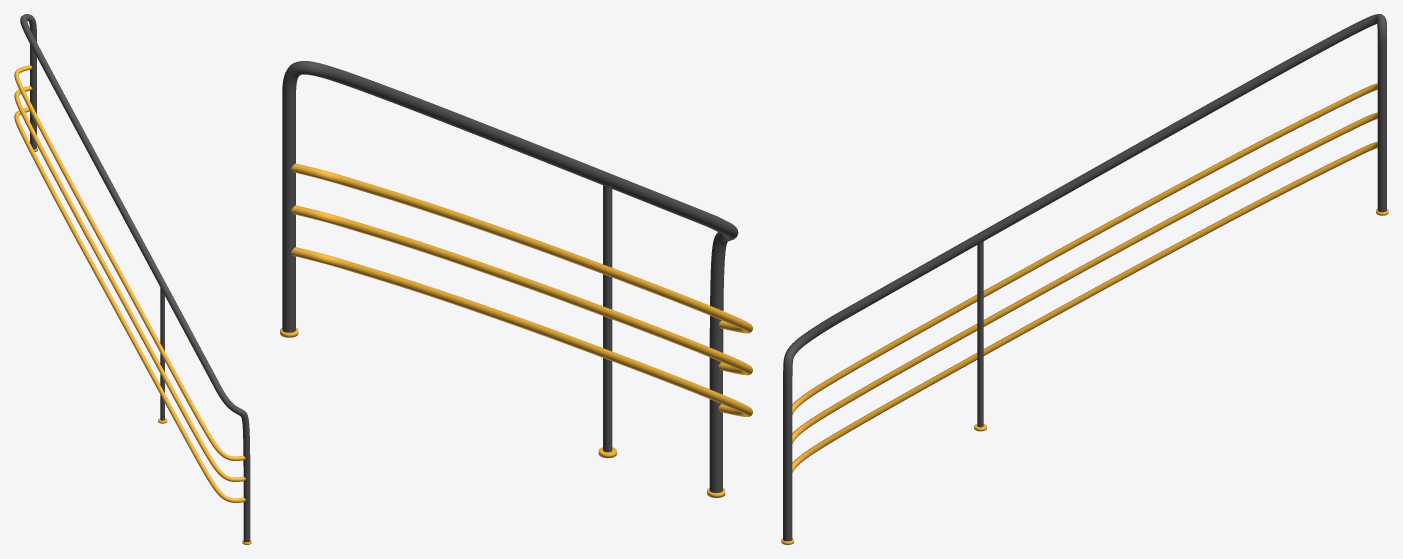
The model's file is RinghieraScale.fbx.
The picture shows the model from 3 angles, left to right: view 1: azimuth 30°, elevation 25°; view 2: azimuth 150°, elevation 25°; view 3: azimuth 270°, elevation 25°; orthographic projection. The views are drawn at different scales.
Parts seen in each view (by area): view 1: MainStruct, BarraOriz3, BarraOriz1, BarraOriz2, BarraVert; view 2: MainStruct, BarraOriz3, BarraOriz2, BarraOriz1, BarraVert; view 3: MainStruct, BarraOriz2, BarraOriz1, BarraOriz3, BarraVert.
Part boxes in pixels (x1,y1,x2,y2): MainStruct: (20,14,250,542); BarraOriz3: (14,65,245,460); BarraOriz1: (14,86,245,481); BarraOriz2: (14,107,245,502); BarraVert: (160,288,164,420); MainStruct: (282,61,738,492); BarraOriz3: (291,163,752,333); BarraOriz2: (291,247,752,416); BarraOriz1: (291,205,752,375); BarraVert: (603,185,612,452); MainStruct: (783,14,1386,541); BarraOriz2: (792,141,1377,472); BarraOriz1: (792,112,1377,443); BarraOriz3: (792,83,1377,414); BarraVert: (977,241,983,427).
Bounding box in the file's own units: 30.97 × 358 × 378.
